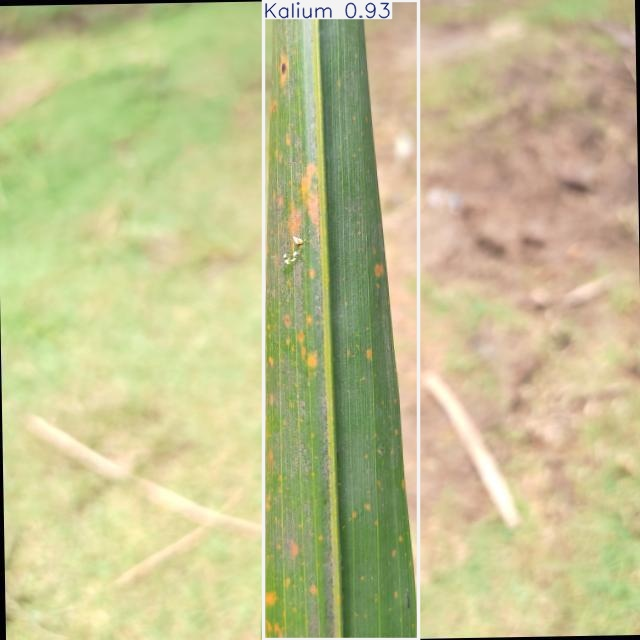Kalium: (263, 0, 419, 639)
